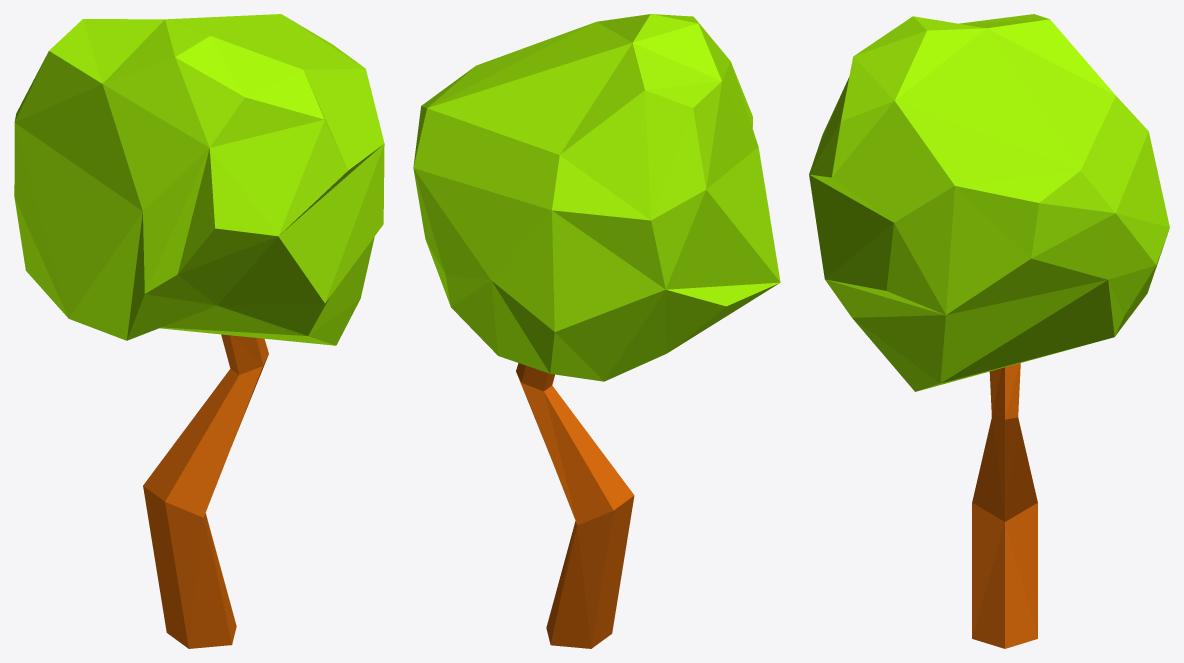
Rendered from onemesh-tree.glb.
3 views of the same model, side by side, from view 1: azimuth 30°, elevation 25°; view 2: azimuth 150°, elevation 25°; view 3: azimuth 270°, elevation 25° (orthographic). The views are drawn at different scales.
Visible parts, largest first — view 1: Mesh_0; view 2: Mesh_0; view 3: Mesh_0.
Part boxes in pixels (x1=…): Mesh_0: x1=14, y1=14, x2=384, y2=648; Mesh_0: x1=413, y1=14, x2=780, y2=648; Mesh_0: x1=809, y1=14, x2=1169, y2=648.
Size of the model in its own units: 0.5359 by 1 by 0.5568.
